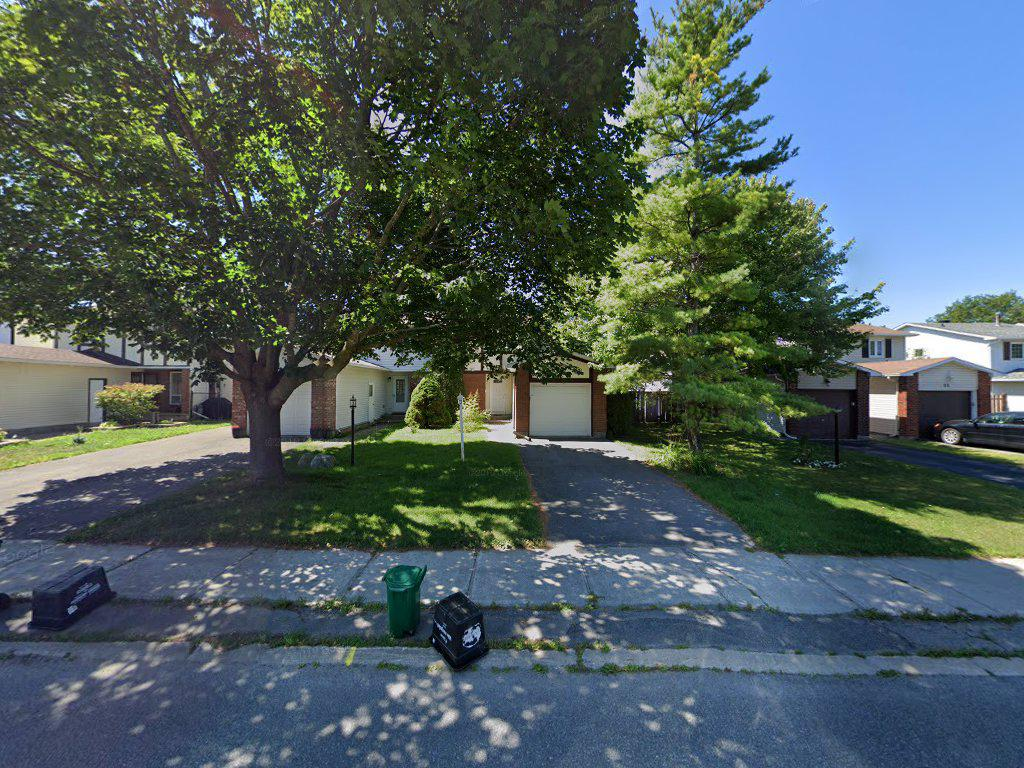trunk: (236, 349, 295, 491)
